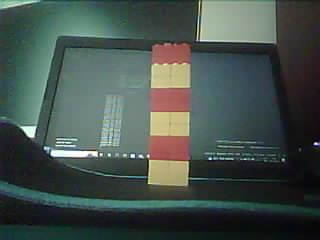lego: (148, 42, 191, 189)
